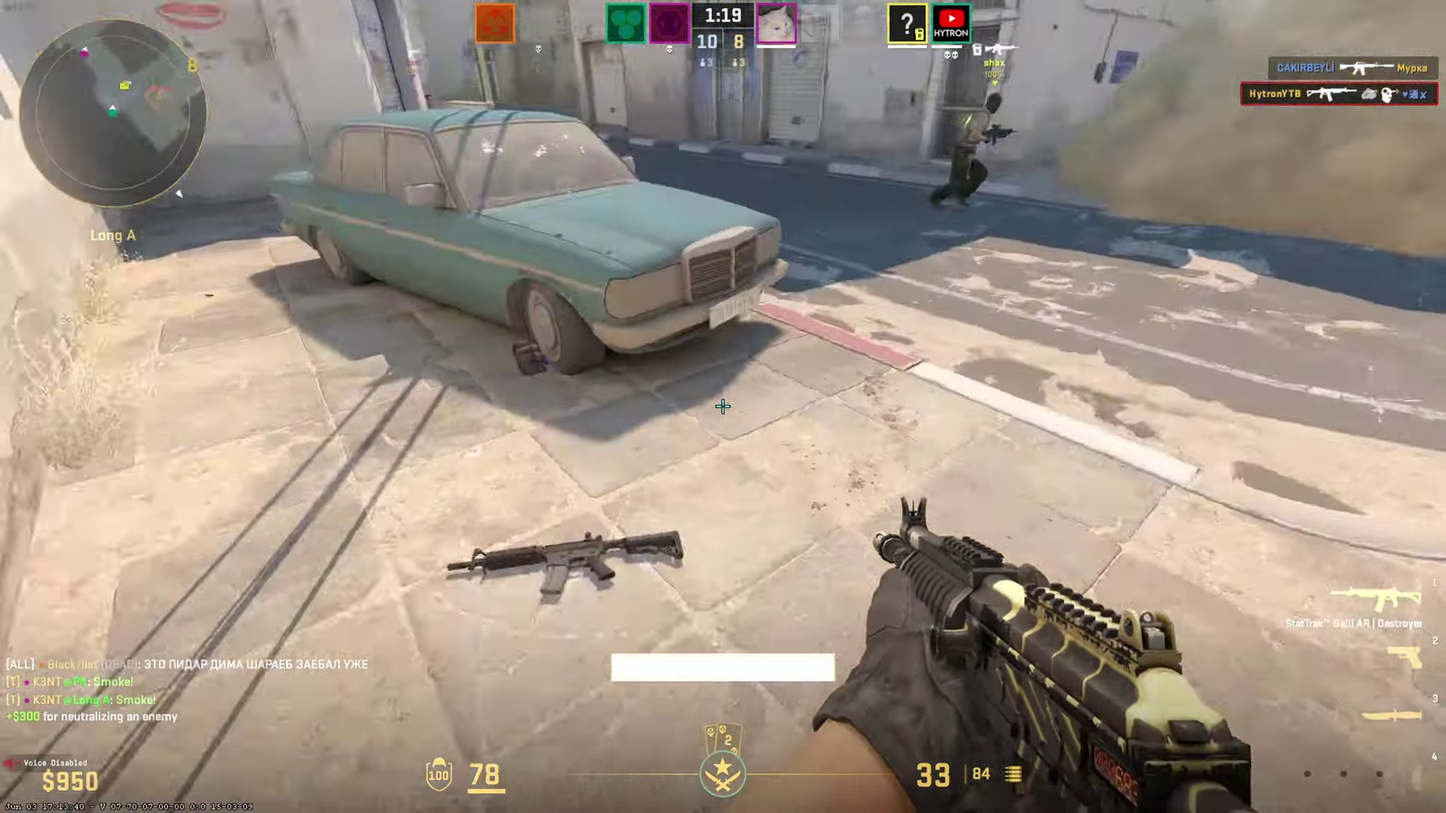Terrorist: (939, 81, 1002, 211)
